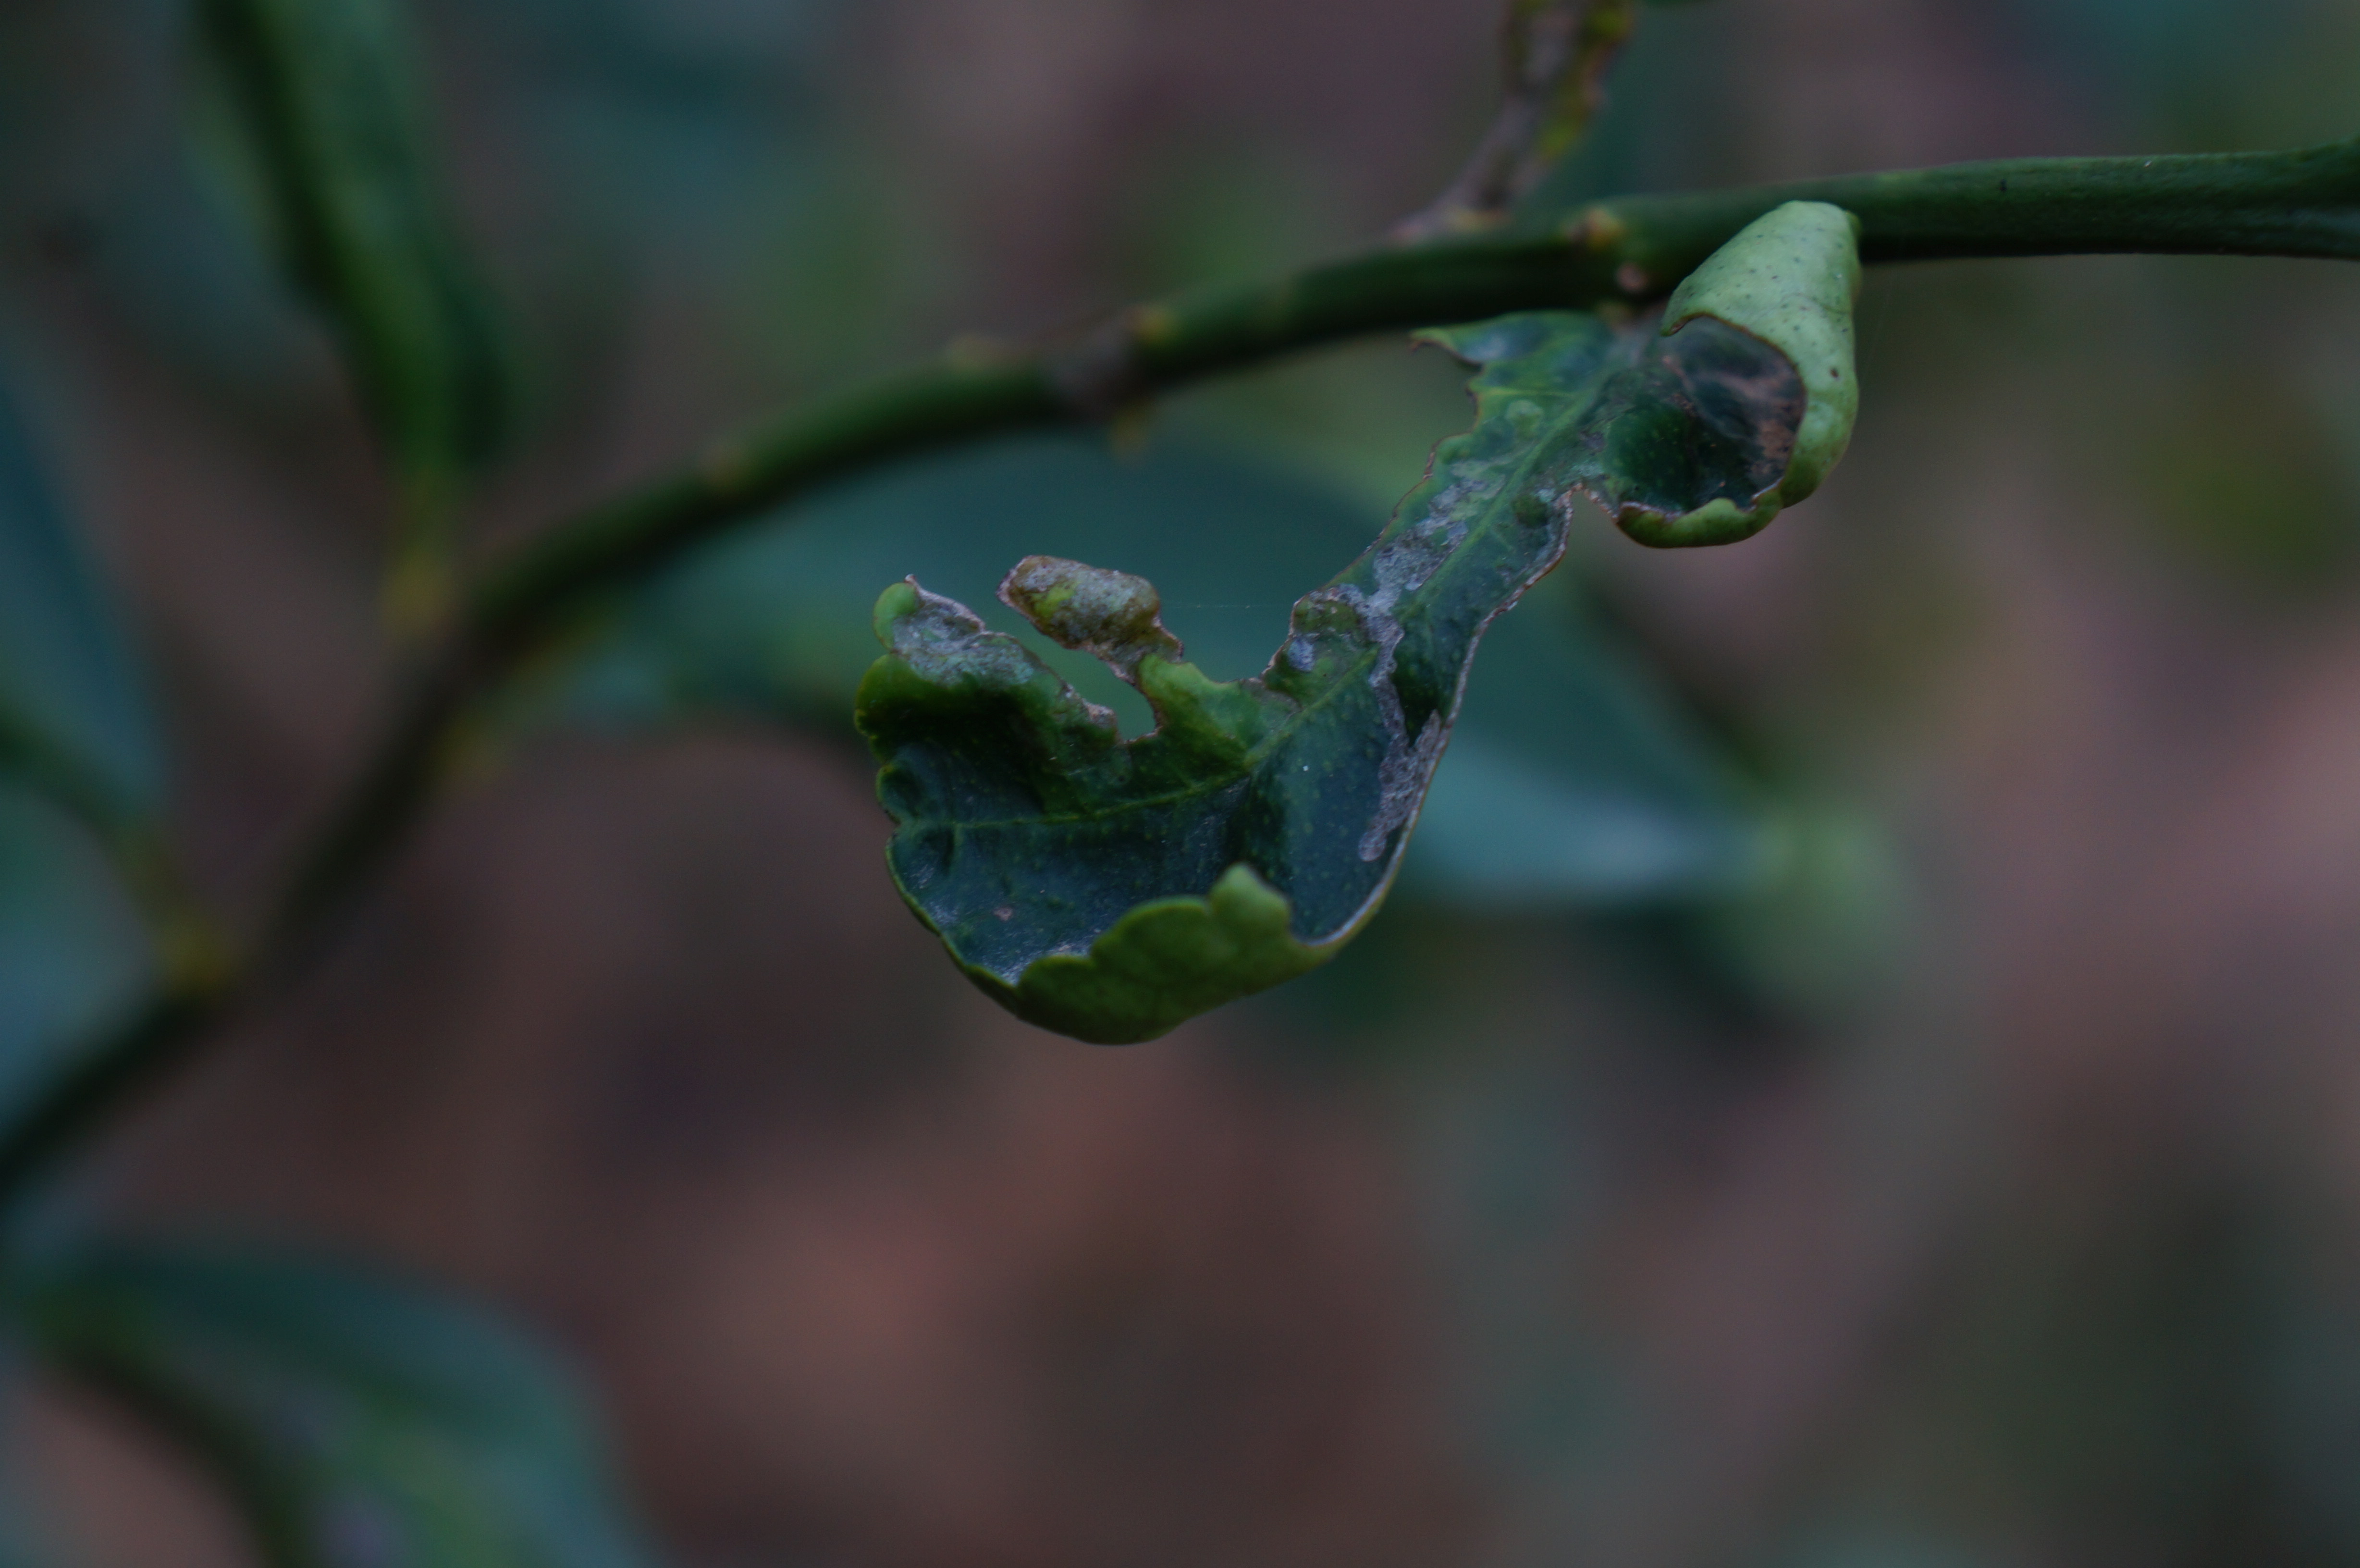damage: (838, 194, 1914, 1053)
